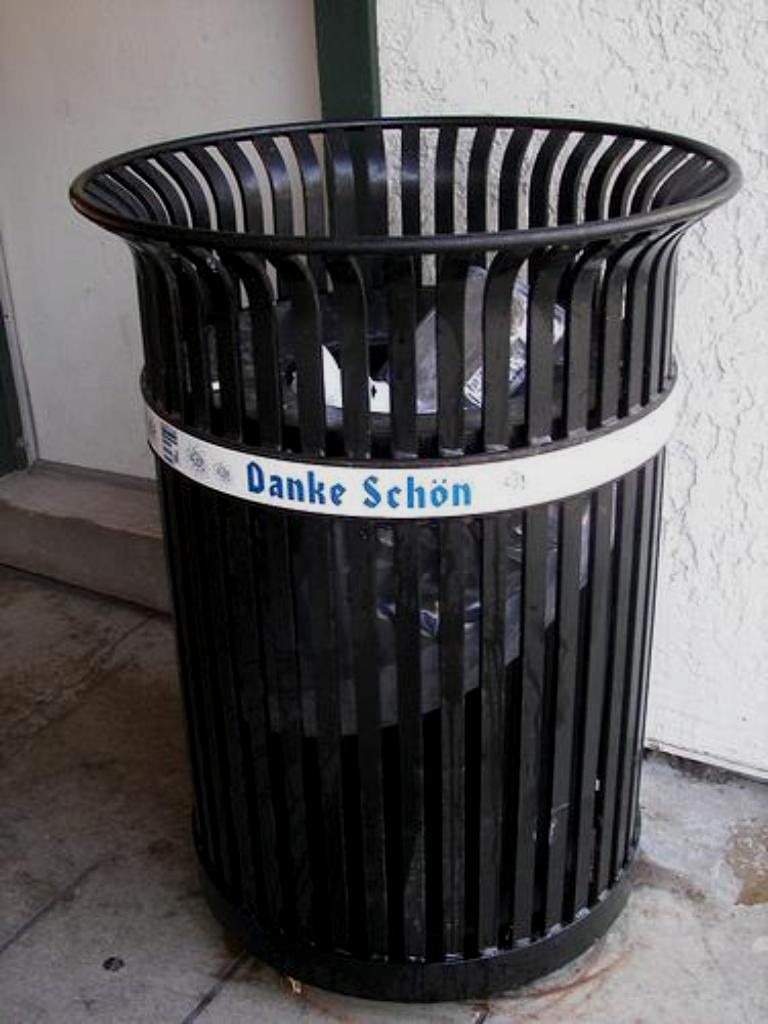dustbin: (67, 89, 738, 989)
